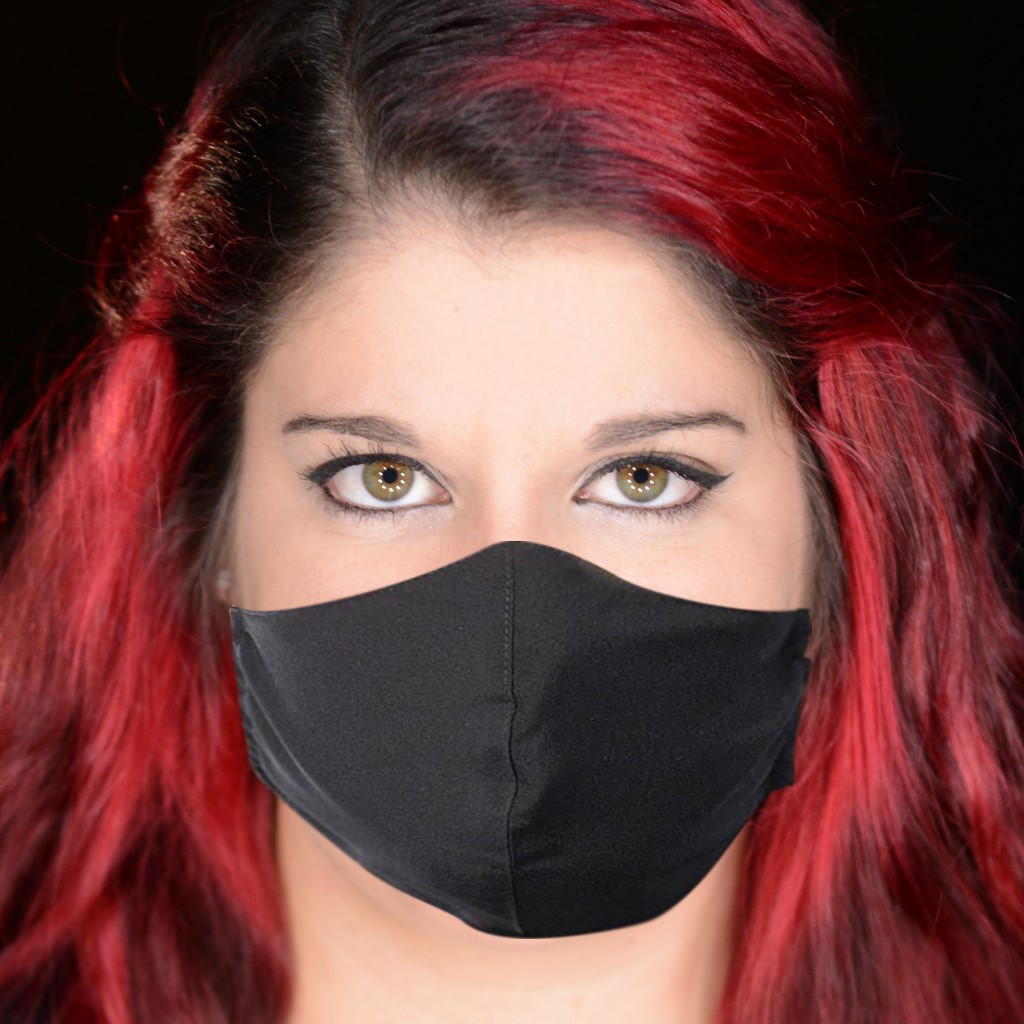con_mascara: (199, 185, 811, 936)
